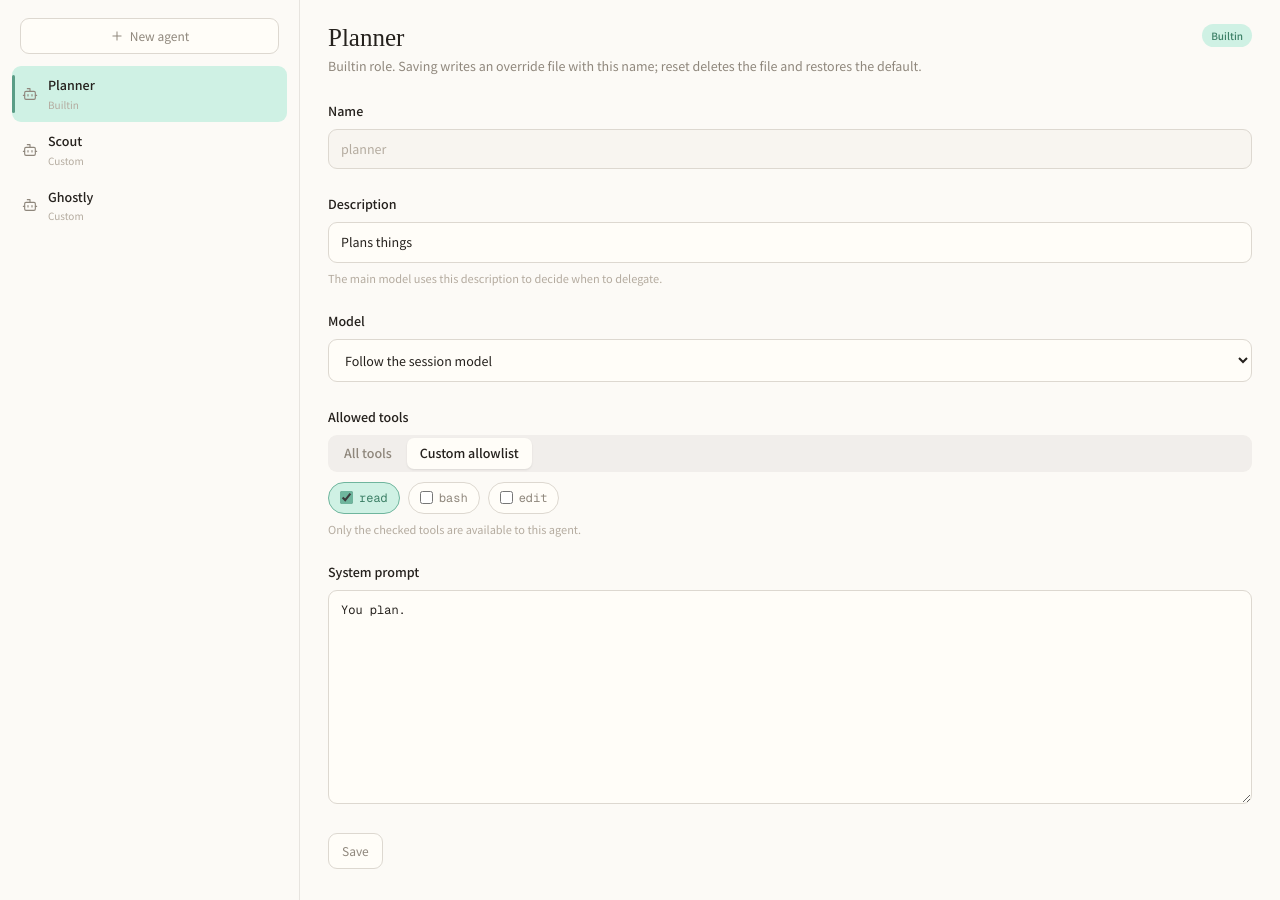
SubagentsPanel › keeps an unavailable model selectable and warns instead of dropping it
Click the text "Ghostly". click: {"x": 71, "y": 196}
box: left=48, top=186, right=93, bottom=206
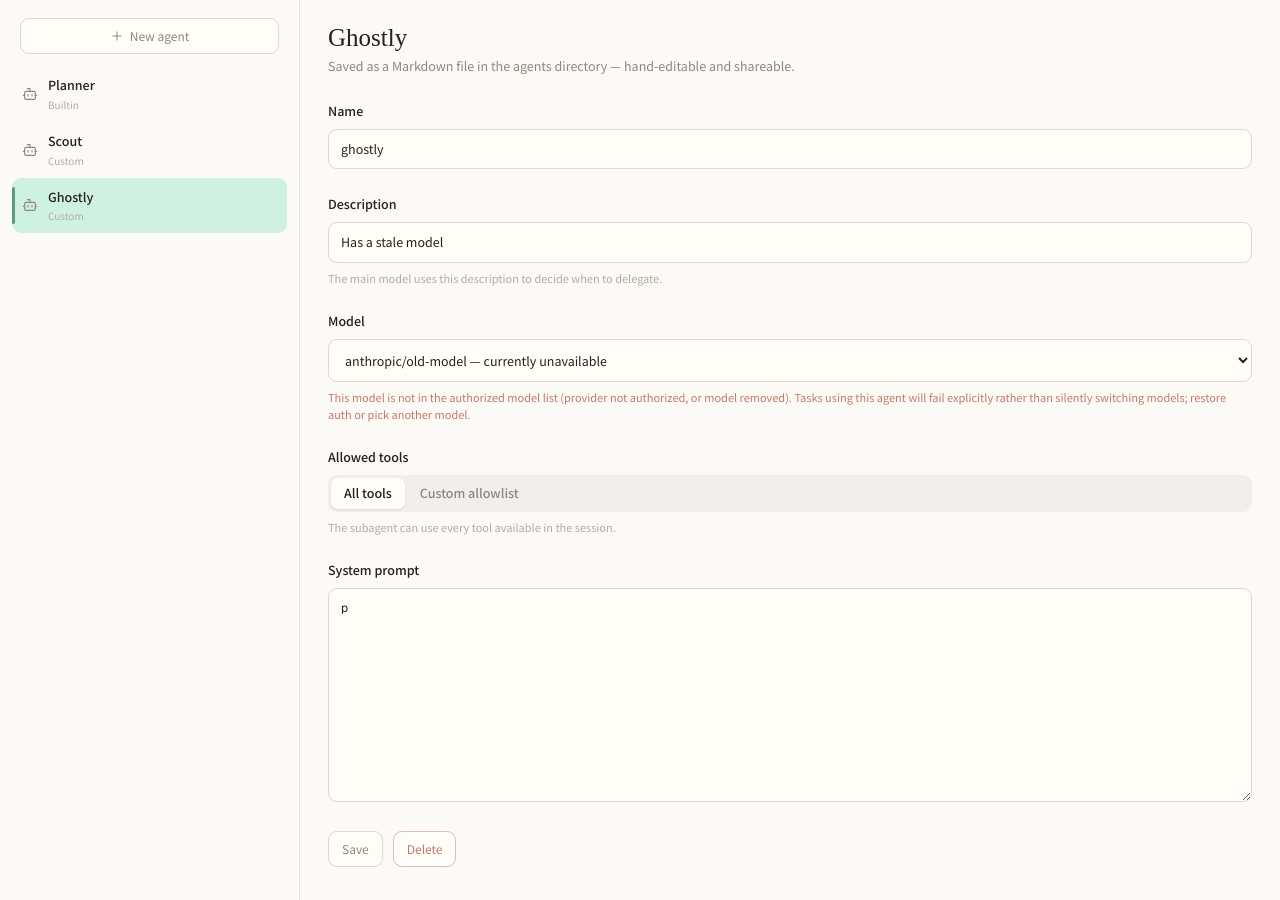
expect the dropdown labelled "Model" shows "anthropic/old-model — currently unavailable": met, box left=328, top=339, right=1252, bottom=382
expect the text "fail explicitly" is shown: met, box left=328, top=389, right=1226, bottom=422
